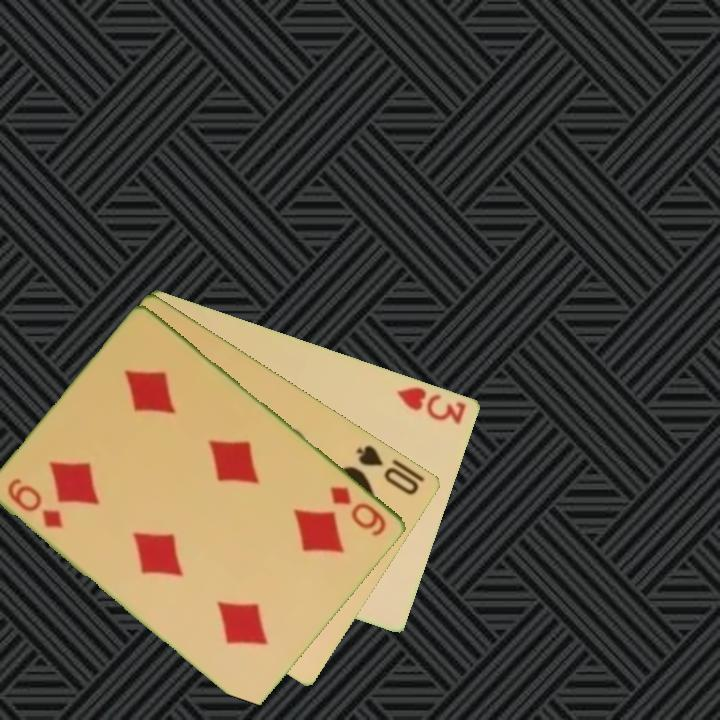10s: (353, 441, 423, 498)
3h: (394, 383, 470, 428)
6d: (327, 482, 390, 540), (4, 474, 67, 532)
